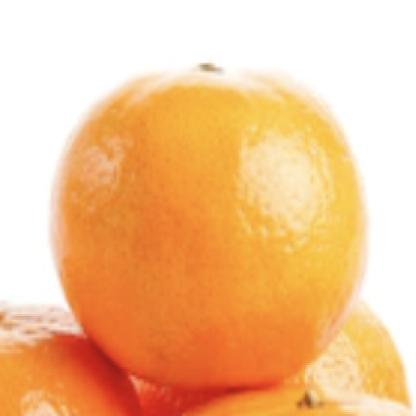fresh: (52, 63, 367, 391)
